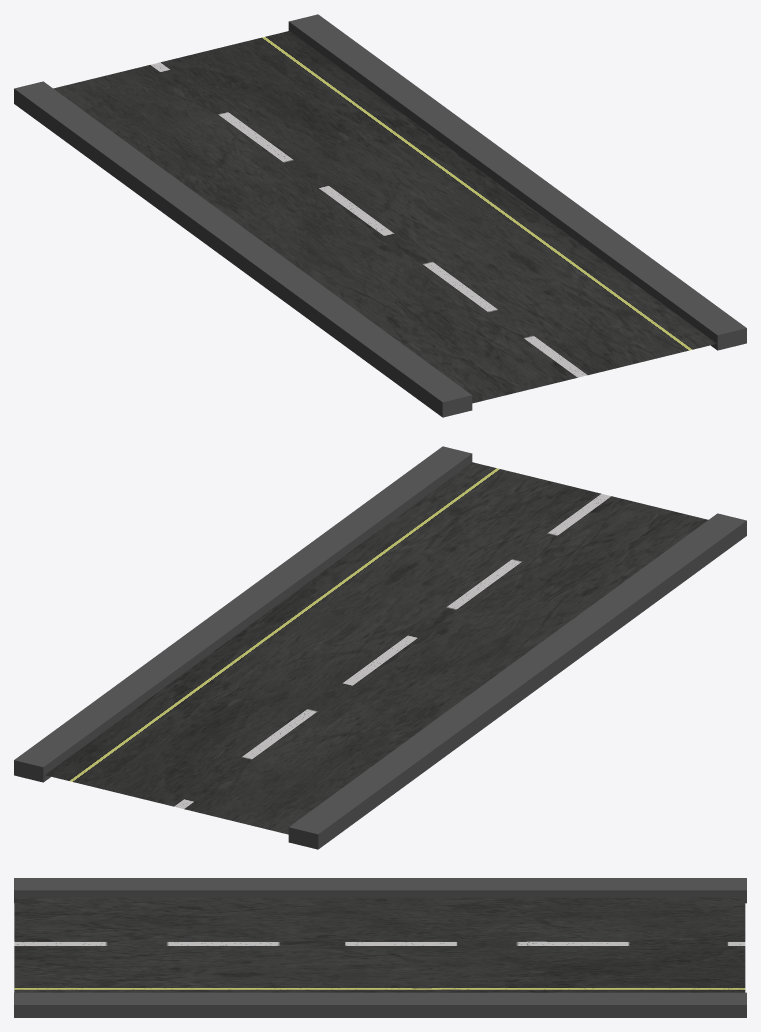
File: 2-Lane-Road.fbx
The picture shows the model from 3 angles, top to bottom: view 1: azimuth 30°, elevation 25°; view 2: azimuth 150°, elevation 25°; view 3: azimuth 270°, elevation 25°; orthographic projection. The views are drawn at different scales.
Visible parts, largest first — view 1: polySurface35, pCube51, pCube50; view 2: polySurface35, pCube51, pCube50; view 3: polySurface35, pCube50, pCube51.
Part boxes in pixels (x1,y1,x2,y2): polySurface35: [53, 31, 716, 403]; pCube51: [14, 81, 472, 417]; pCube50: [288, 14, 746, 350]; polySurface35: [45, 462, 708, 834]; pCube51: [288, 513, 746, 849]; pCube50: [14, 446, 472, 782]; polySurface35: [14, 897, 745, 992]; pCube50: [14, 992, 746, 1017]; pCube51: [14, 878, 746, 903].
Size of the model in its own units: 39.14 by 1.88 by 95.55.
2 materials, 1 textured.
